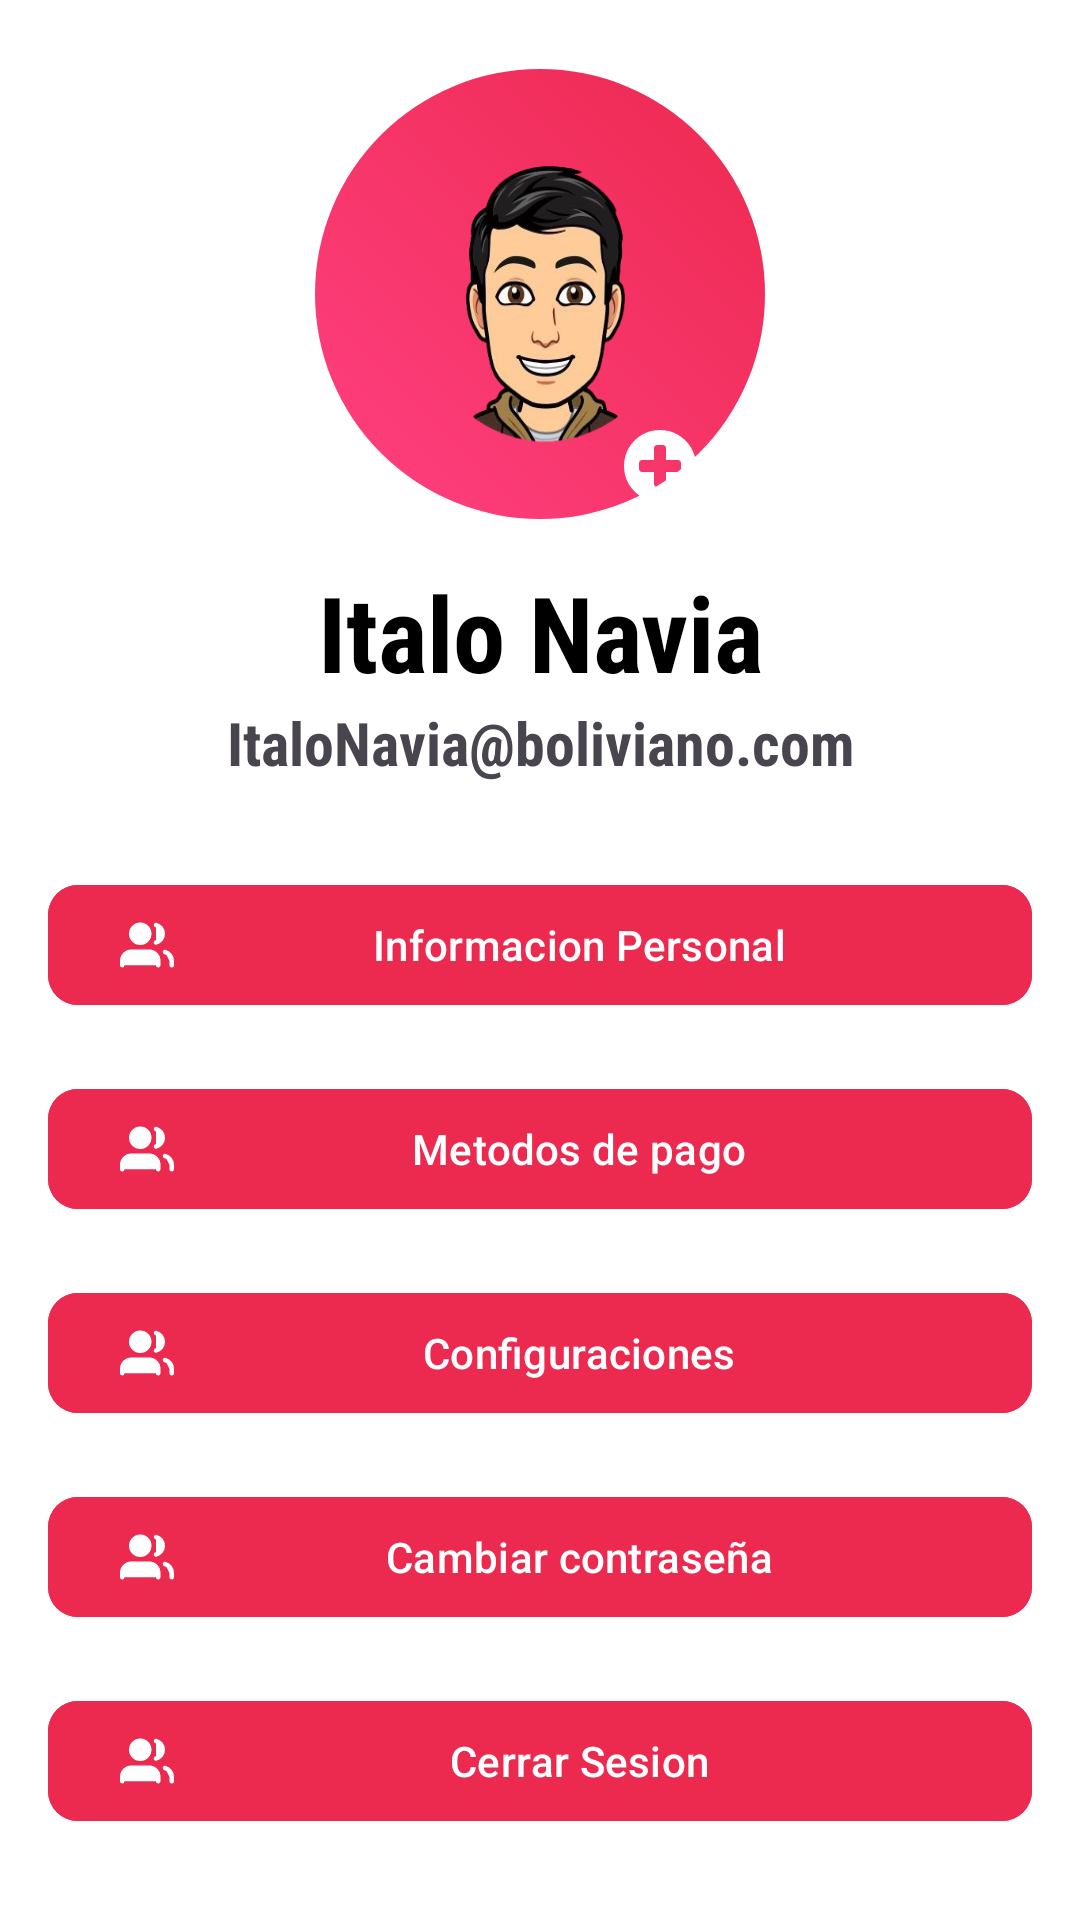

Point at icon controls on the screen. Image size 1080*1920, points as (x,y).
add: (660,466)
